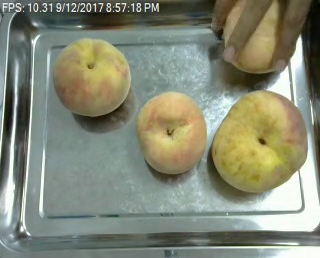Peach: (211, 89, 308, 194), (52, 37, 130, 117), (136, 90, 206, 174)
